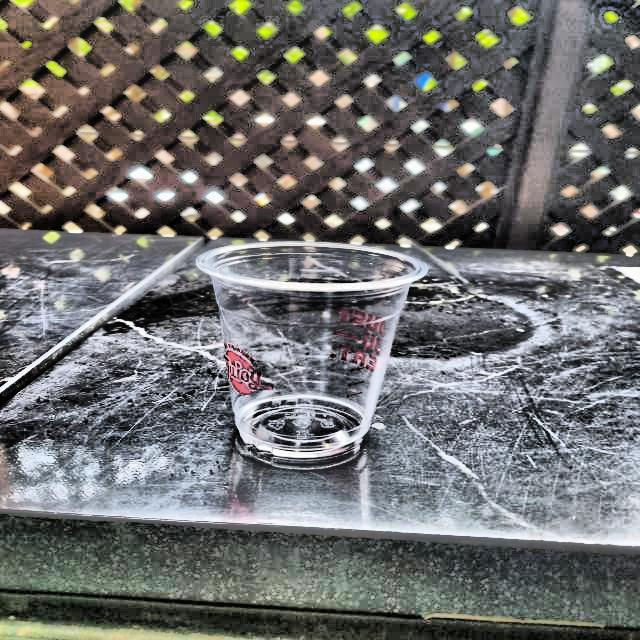plastic cup: (187, 236, 434, 472)
